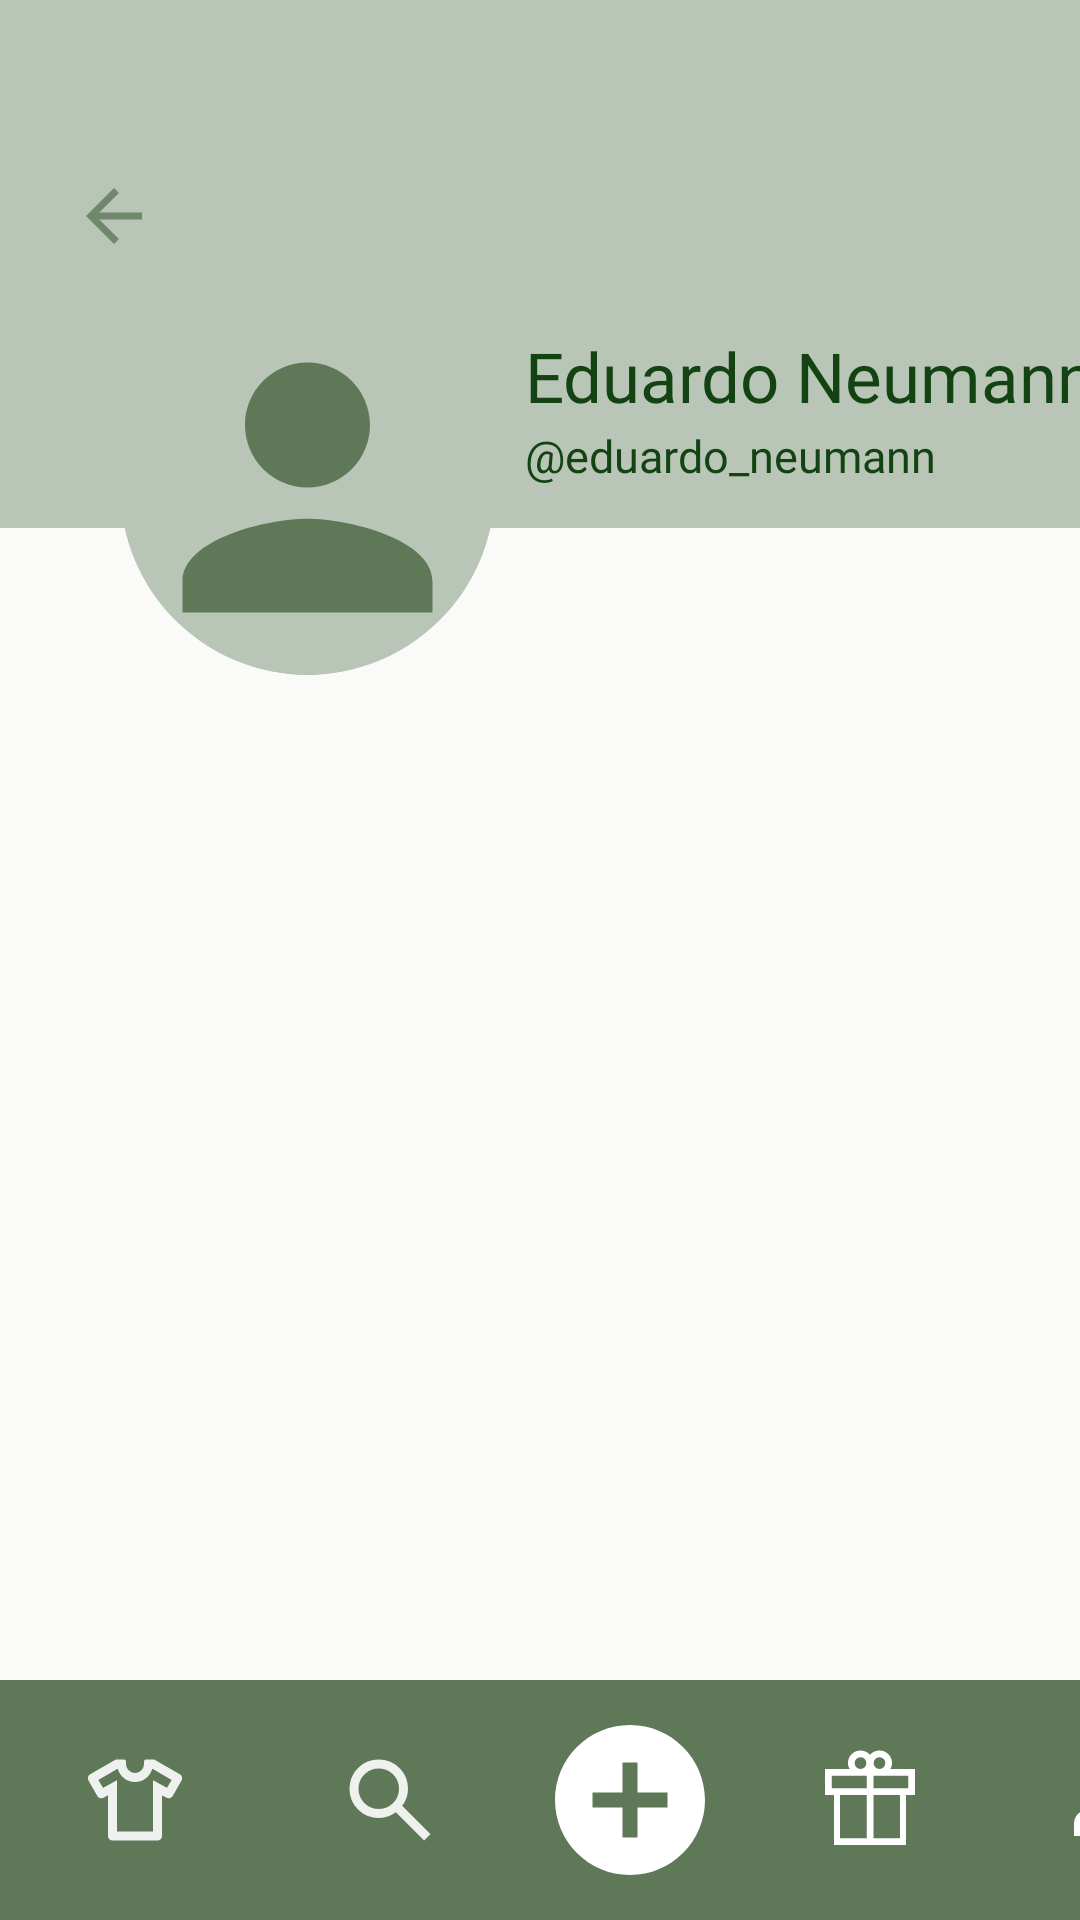

Point at icon controls on the screen. Image size 1080×1920, points as point (x, y).
add circle: point (630, 1800)
iconedoacao: point (870, 1797)
search branco: point (390, 1800)
